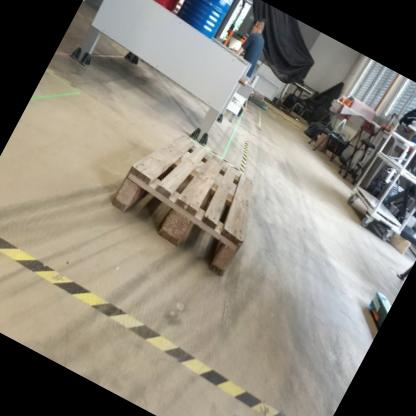BoxFace: (104, 131, 259, 284)
